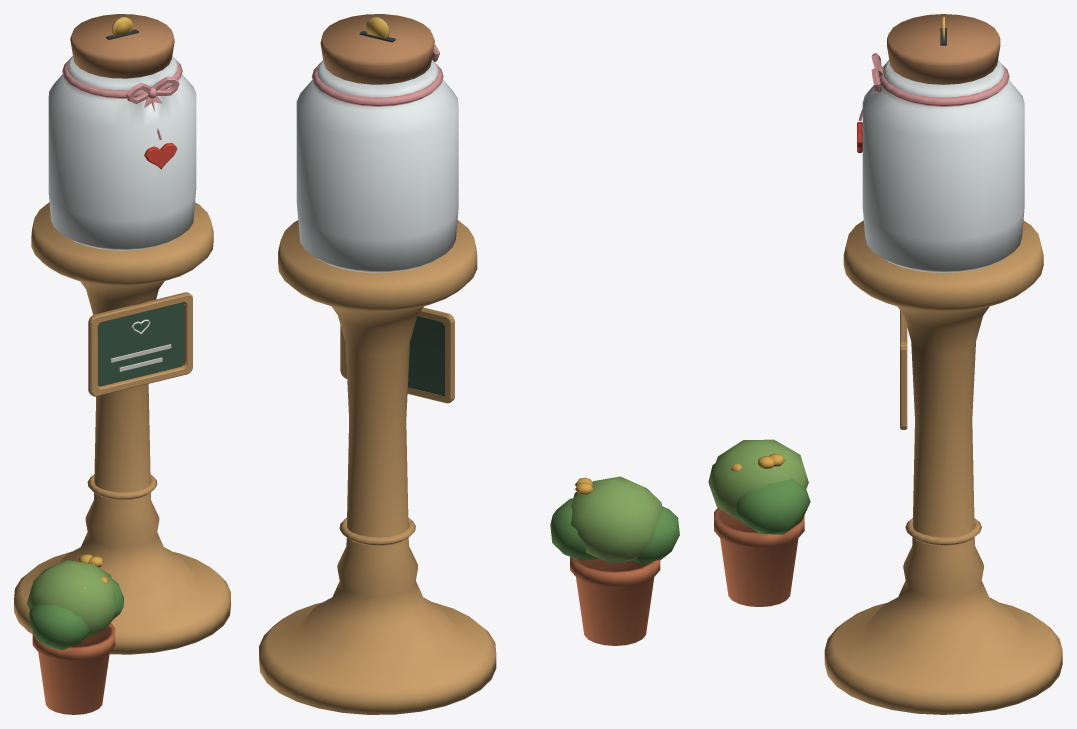
Rendered from givingJar.glb.
The picture shows the model from 3 angles, left to right: view 1: azimuth 30°, elevation 25°; view 2: azimuth 150°, elevation 25°; view 3: azimuth 270°, elevation 25°; orthographic projection. The views are drawn at different scales.
Parts seen in each view (by area): view 1: body; view 2: body; view 3: body.
Part boxes in pixels (x1,y1,x2,y2): body: (14,14,230,714); body: (259,14,679,714); body: (708,14,1062,714).
Bounding box in the file's own units: 0.6398 × 1.32 × 0.6552.
